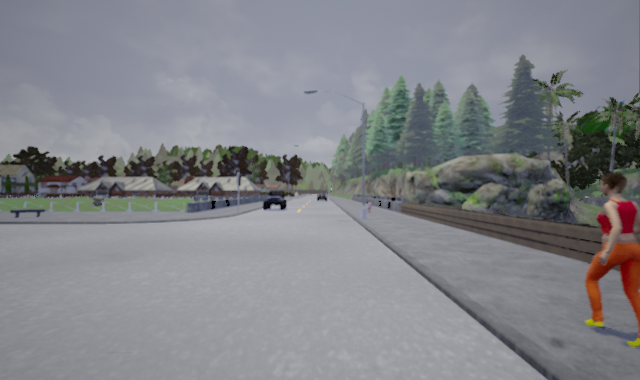pedestrian: (580, 170, 639, 355)
vehicle: (261, 189, 287, 210)
